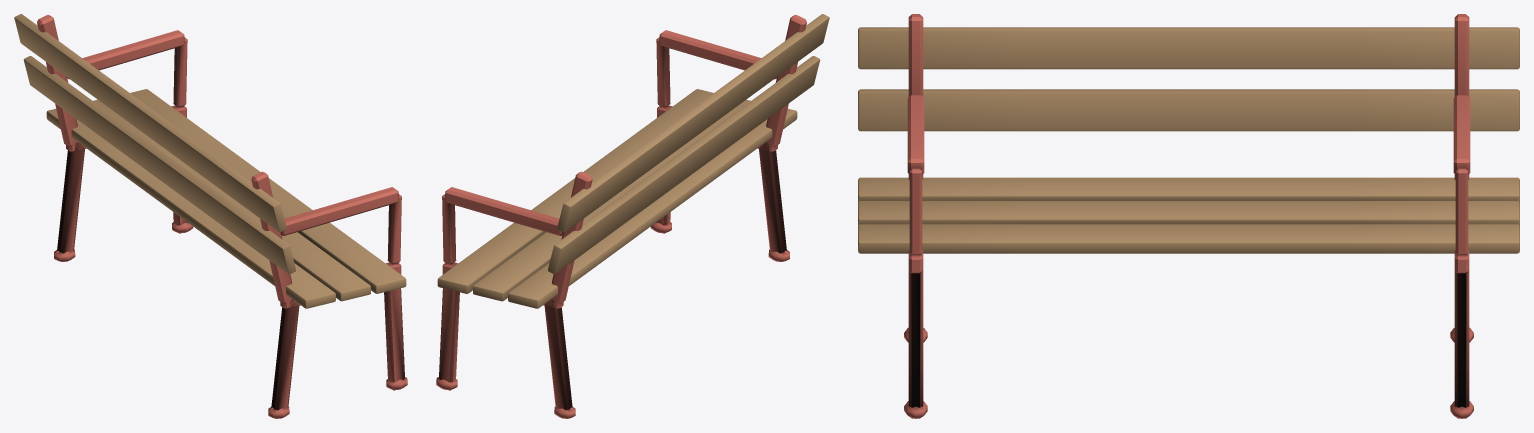
File: bench.glb
3 renders of one model, left to right at view 1: azimuth 30°, elevation 25°; view 2: azimuth 150°, elevation 25°; view 3: azimuth 270°, elevation 25°, orthographic. The views are drawn at different scales.
Visible parts, largest first — view 1: PART; view 2: PART; view 3: PART.
Boxes of the visible parts, x1,y1,x2,y2 form: PART: (14,14,407,418); PART: (436,14,829,418); PART: (858,14,1519,418).
Size of the model in its own units: 0.5573 by 0.8447 by 1.6.
